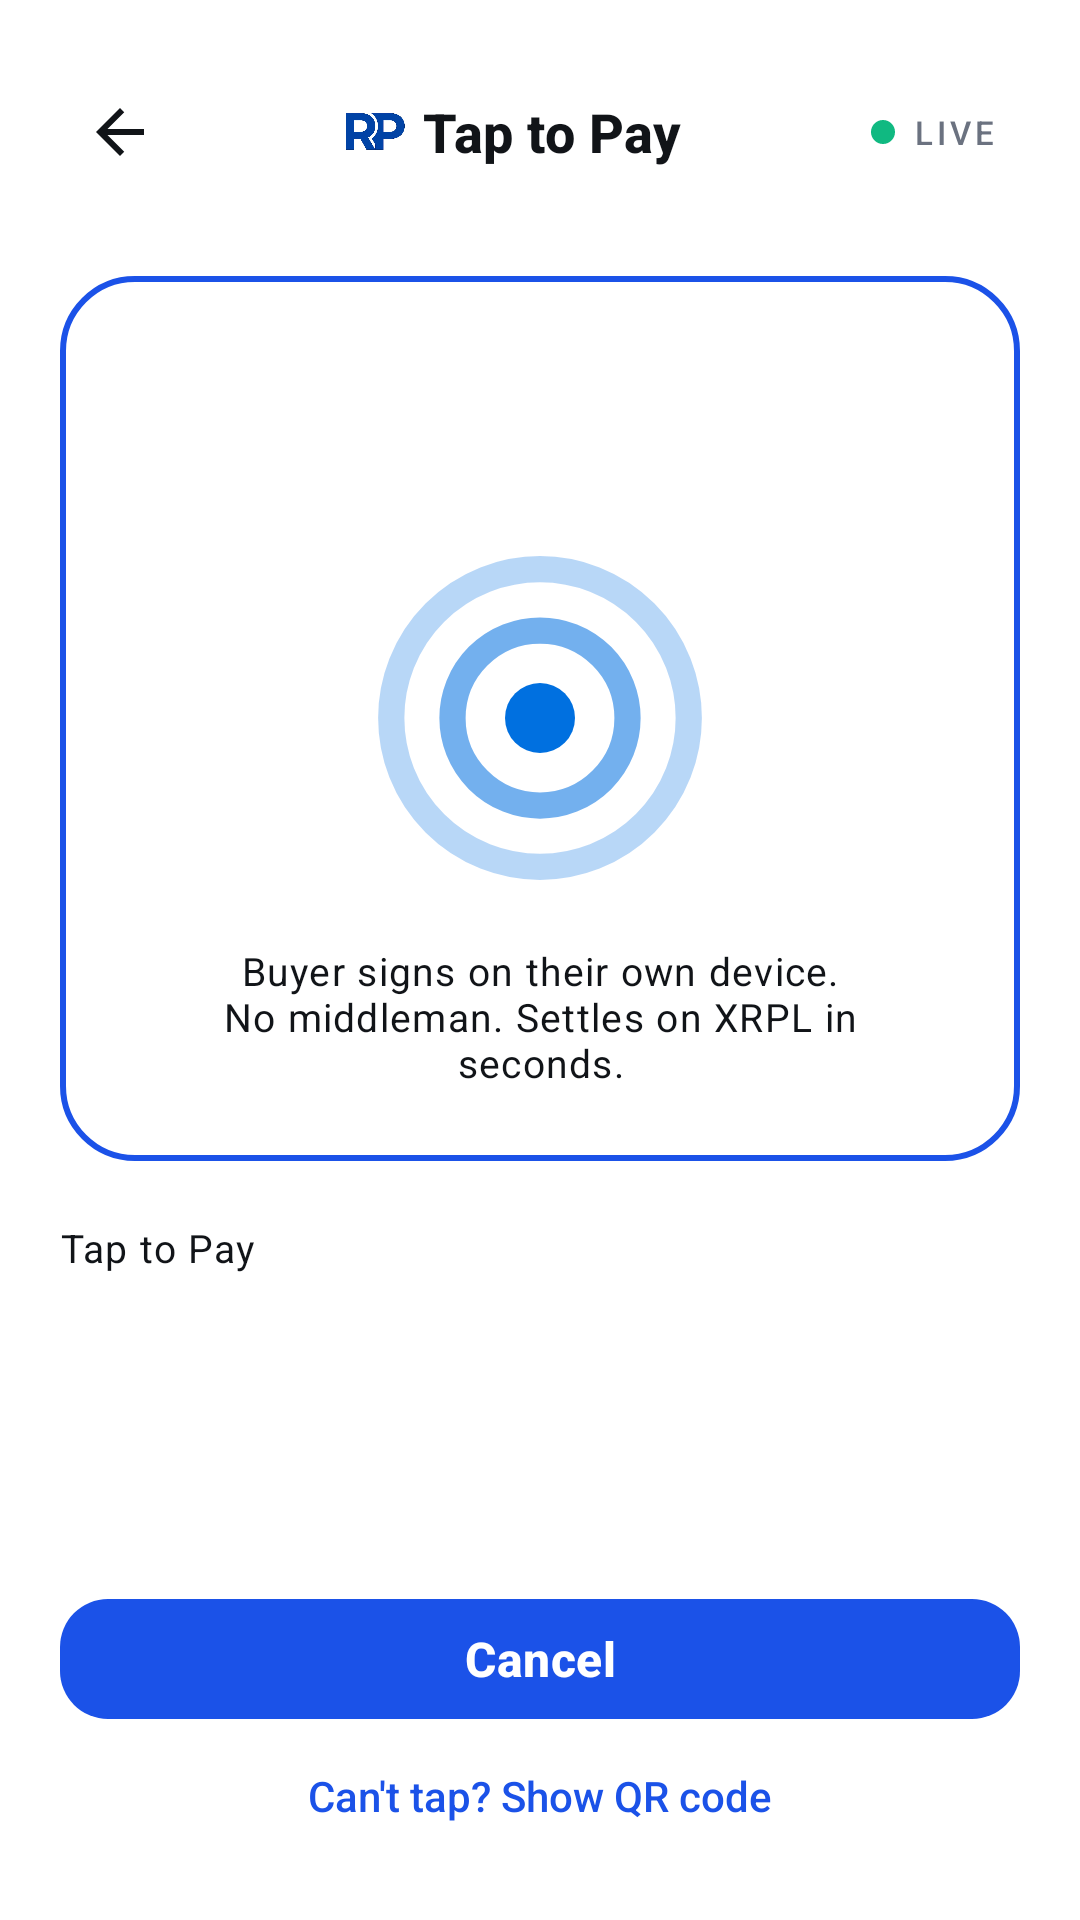

Locate icon controls on the screen. Image size 1080px x 1920px, boxes as [left=x1, top=y1, right=x2, bottom=y2].
Back: [left=96, top=108, right=144, bottom=156]
